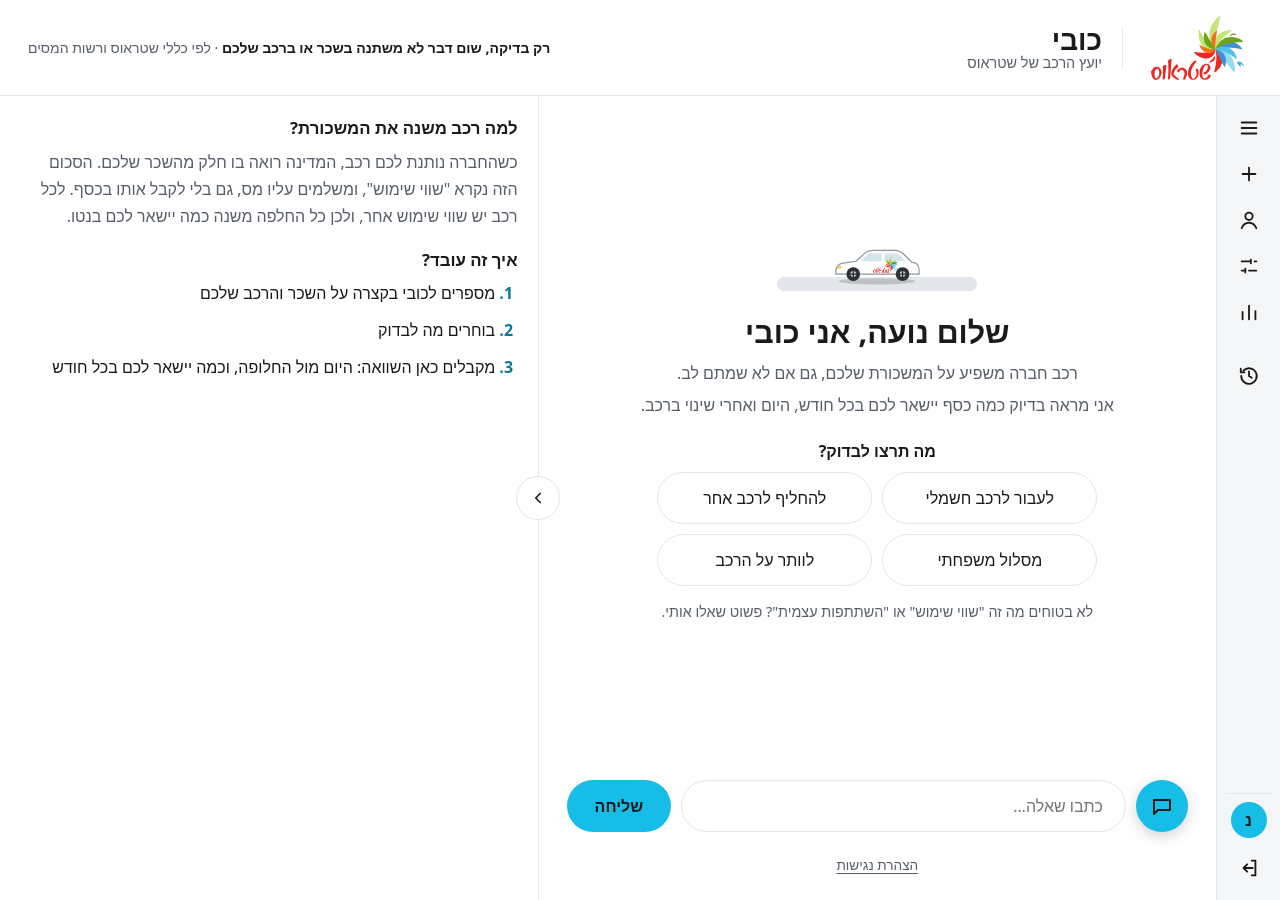
Test: "פנייה" in the profile › the kept choice is shown
Click the 2nd button named "פרופיל": (1248, 220) [1225,198,1272,242]
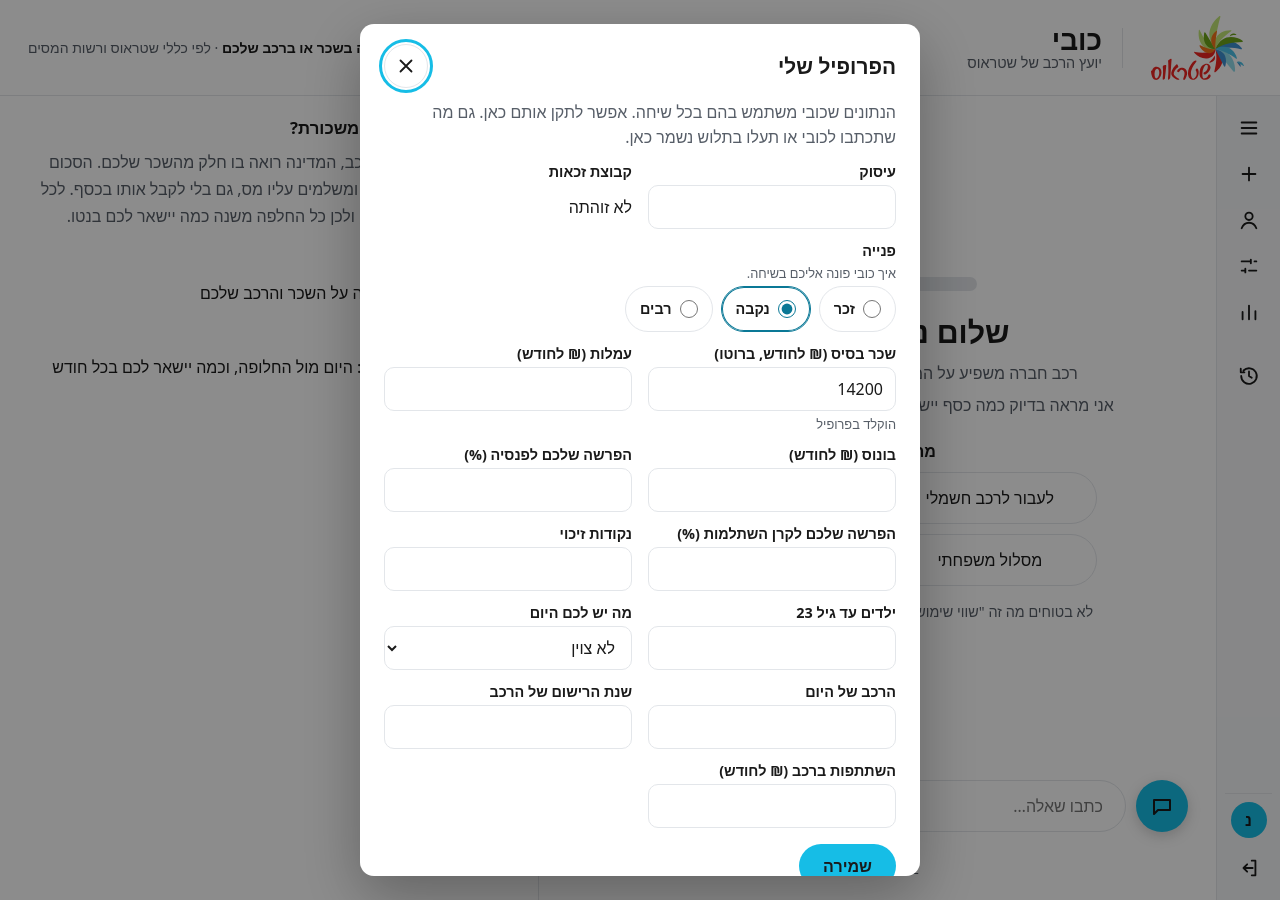
Now the radio button labelled "נקבה" is checked, box [778,287,796,331]
